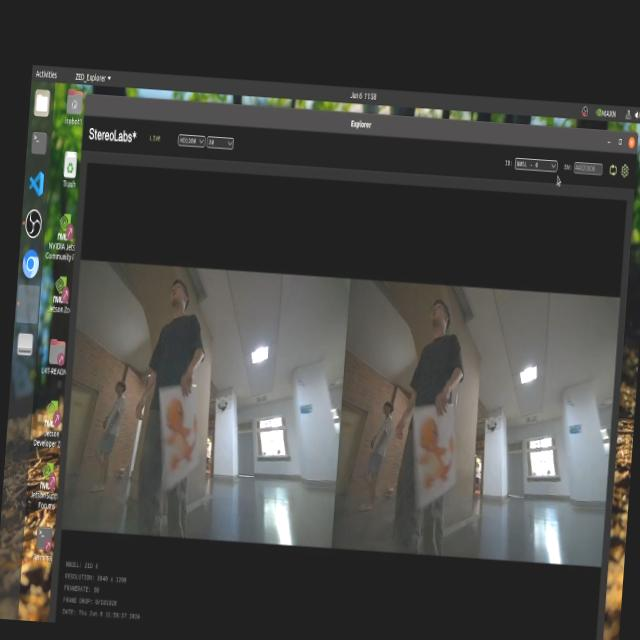red: (156, 389, 208, 474), (414, 410, 462, 494)
